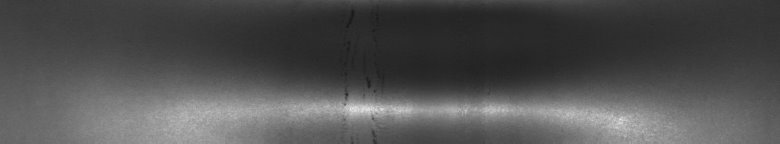ke: (245, 4, 632, 136)
